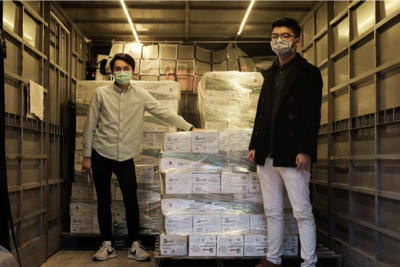with_mask: (271, 32, 298, 58), (112, 64, 133, 86)
